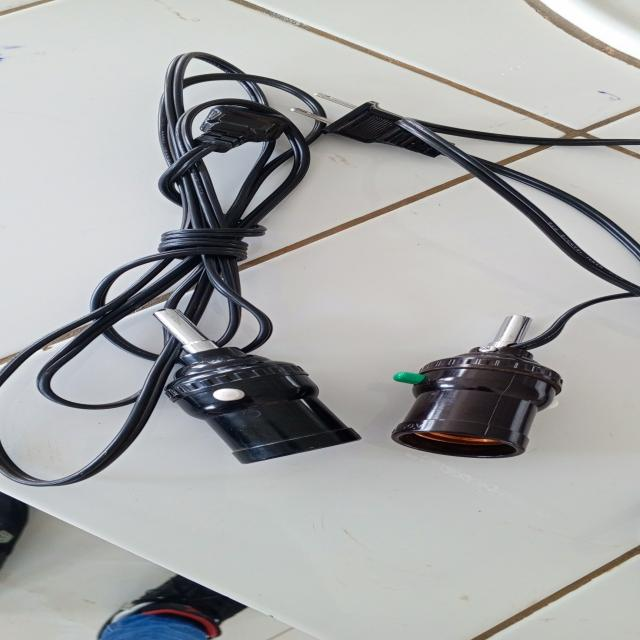Bulb Socket: (28, 54, 631, 478)
